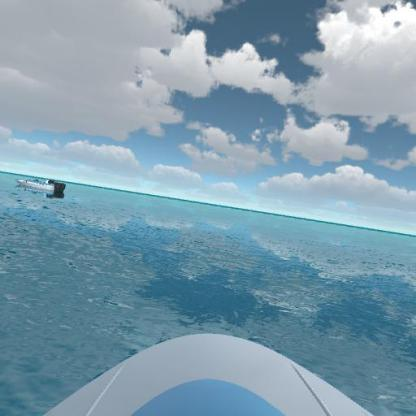usv1: (16, 170, 71, 198)
